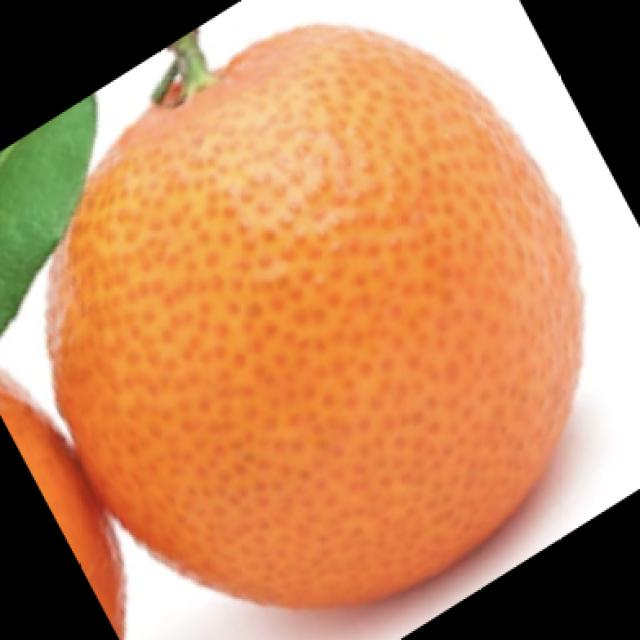matang: (58, 27, 580, 599), (0, 366, 126, 638)
